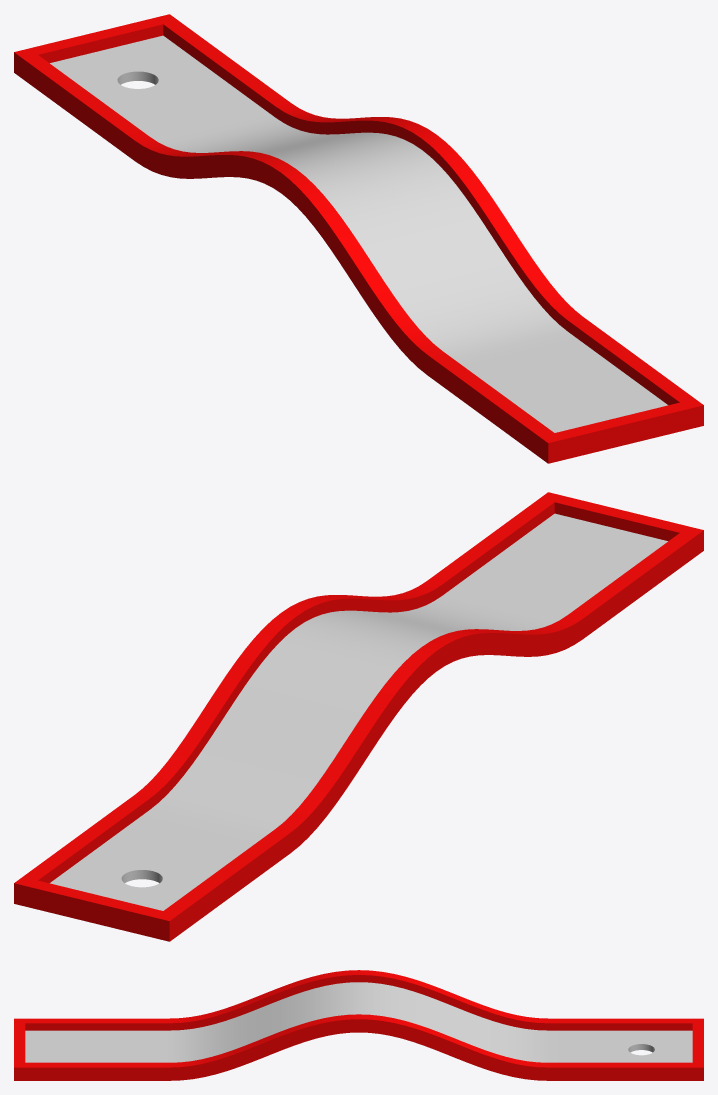
File: BahnM4.fbx
The picture shows the model from 3 angles, top to bottom: view 1: azimuth 30°, elevation 25°; view 2: azimuth 150°, elevation 25°; view 3: azimuth 270°, elevation 25°; orthographic projection. The views are drawn at different scales.
Visible parts, largest first — view 1: Track4; view 2: Track4; view 3: Track4.
Boxes of the visible parts, left/top/right/bottom form: Track4: left=14, top=14, right=703, bottom=463; Track4: left=14, top=492, right=703, bottom=941; Track4: left=14, top=970, right=703, bottom=1080.
Bounding box in the file's own units: 87 × 51 × 517.
